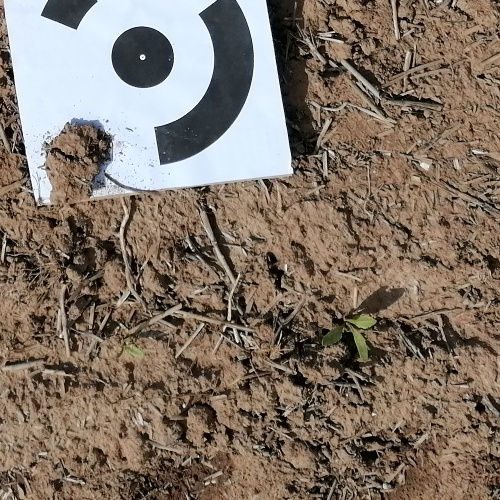beet: (324, 311, 376, 364)
